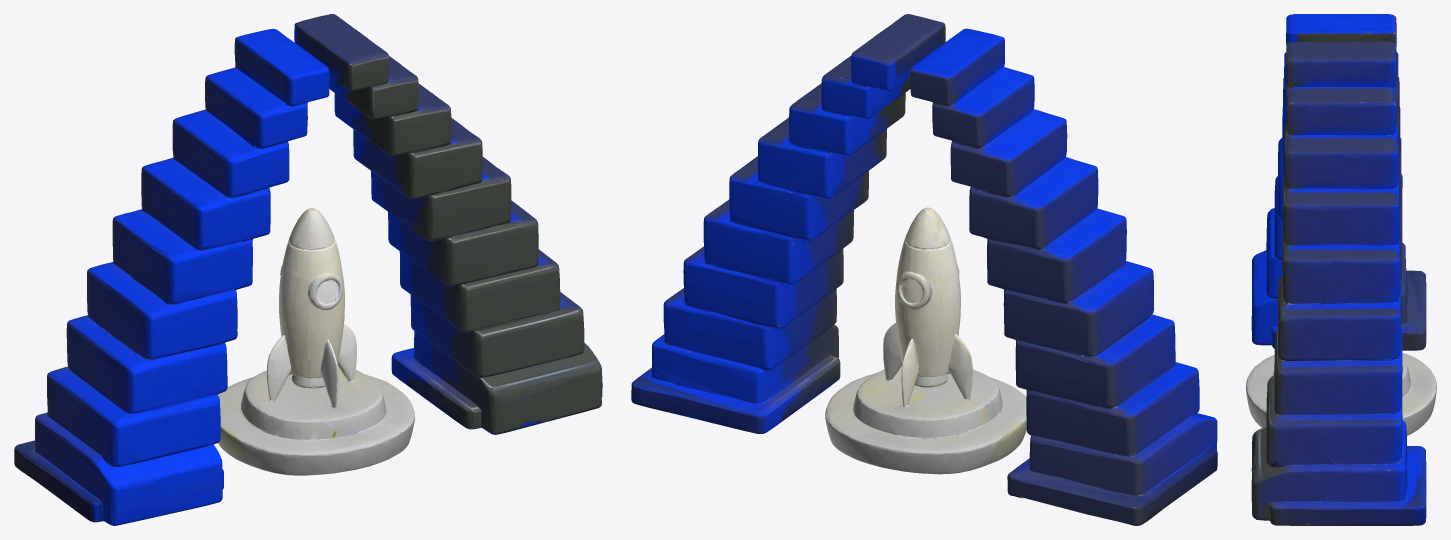
The model's file is orderbook.glb.
3 views of the same model, side by side, from view 1: azimuth 30°, elevation 25°; view 2: azimuth 150°, elevation 25°; view 3: azimuth 270°, elevation 25° (orthographic). The views are drawn at different scales.
Bounding box in the file's own units: 1.9 × 1.38 × 0.6419.
1 material, 1 textured.
